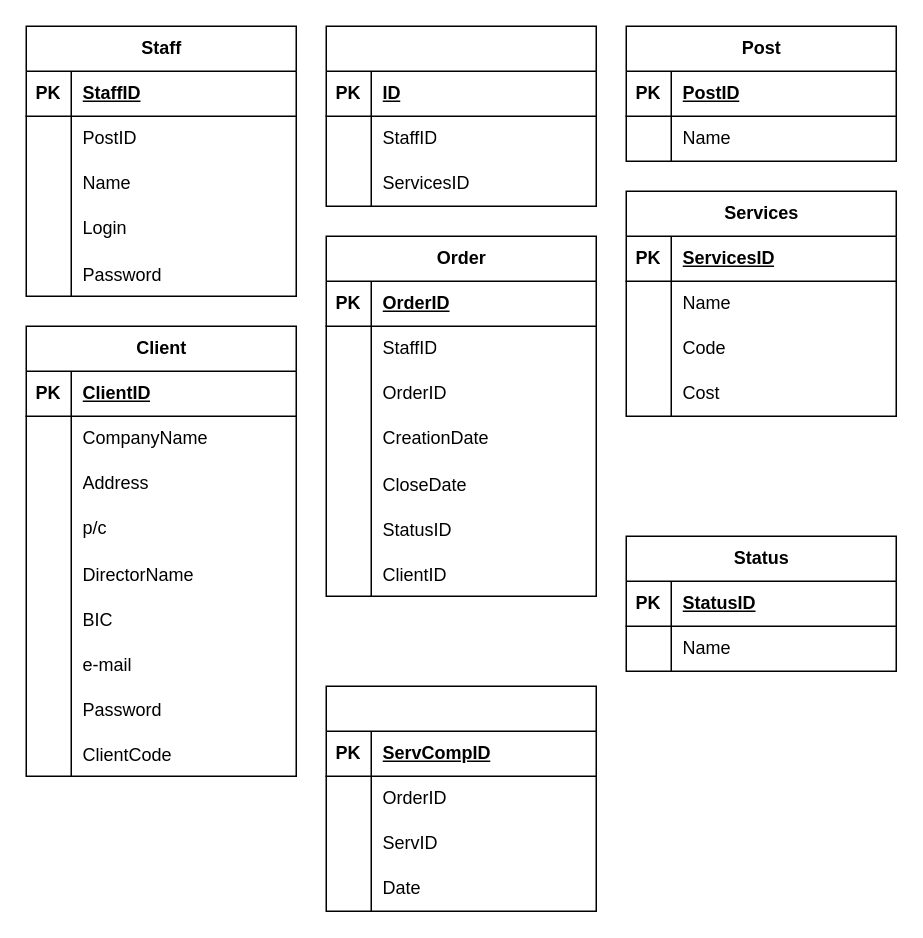
The diagram is 923 pixels wide and 938 high, and some of its shapes have lost their labels. Here are the shapes that lost their labels. From the top down, the box of each, then its label:
(325, 25, 596, 206): Staff-Services
(325, 685, 596, 911): ServicesComposition
